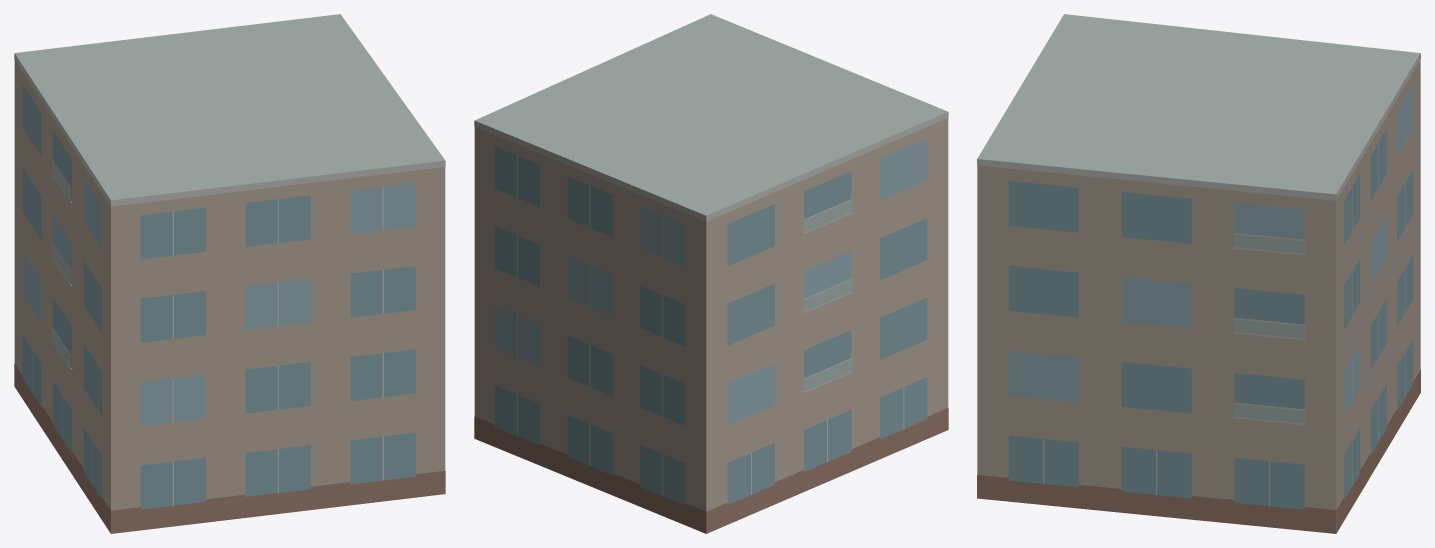
File: survey-upis-32809454.glb
3 views of the same model, side by side, from view 1: azimuth 30°, elevation 25°; view 2: azimuth 150°, elevation 25°; view 3: azimuth 270°, elevation 25° (orthographic). The views are drawn at different scales.
Visible parts, largest first — view 1: survey-upis-32809454.tmp; view 2: survey-upis-32809454.tmp; view 3: survey-upis-32809454.tmp.
Boxes of the visible parts, <box> form: survey-upis-32809454.tmp: <box>14,14,445,533</box>; survey-upis-32809454.tmp: <box>474,14,948,533</box>; survey-upis-32809454.tmp: <box>977,14,1420,533</box>.
Size of the model in its own units: 14.6 by 12.8 by 15.17.
